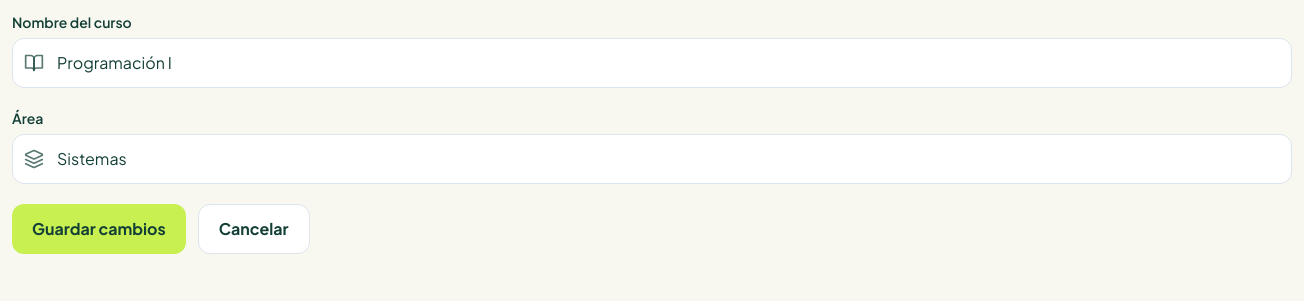
Test: FormularioEditarCurso › no envía si el nombre queda vacío
Clear the field labelled "Nombre del curso". click: (652,63)
box: [12,38,1292,88]
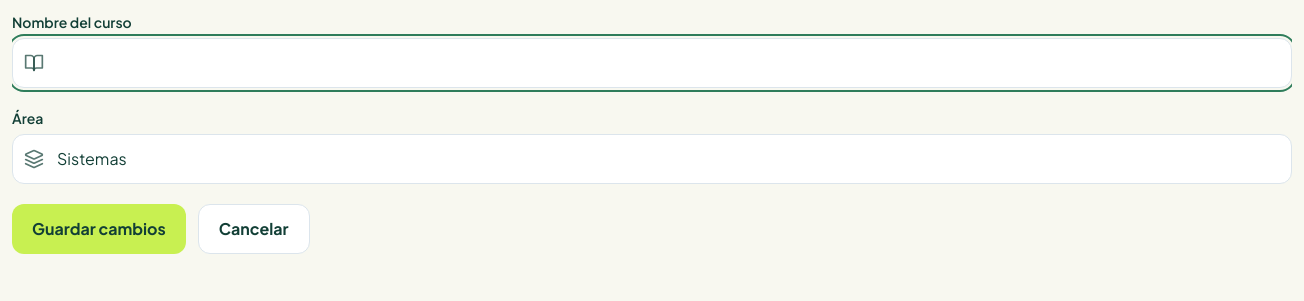
Click the button "Guardar cambios". click: (99,229)
box: [12,204,186,254]
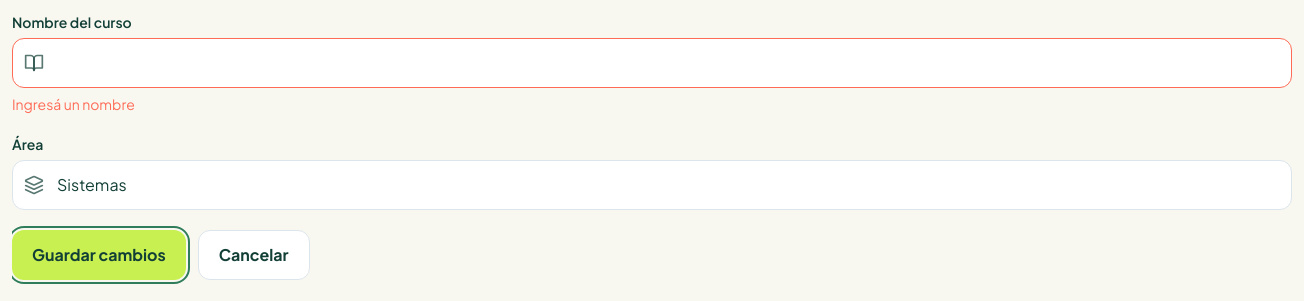
expect the text "Ingresá un nombre" is shown: met, box [12,95,135,113]
